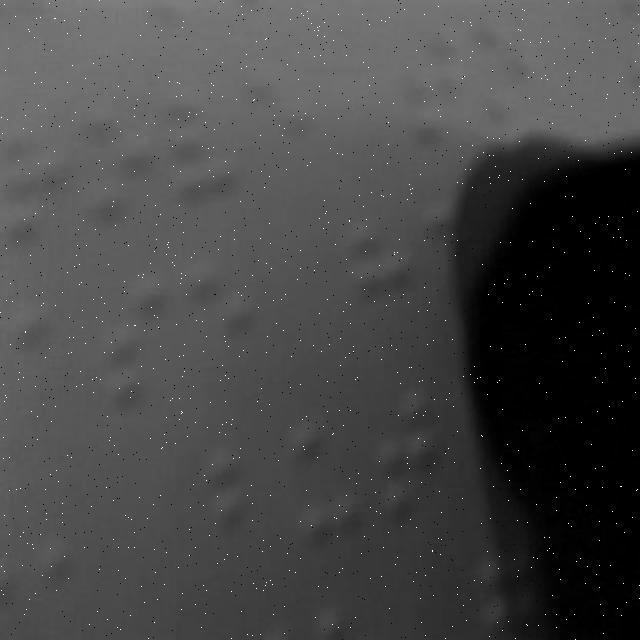B: (206, 436, 278, 572)
E: (243, 60, 313, 196), (182, 252, 250, 390)
H: (348, 214, 418, 350)
R: (102, 276, 170, 412)
S: (374, 386, 456, 520)
T: (285, 421, 363, 551)
U: (168, 81, 235, 210)
